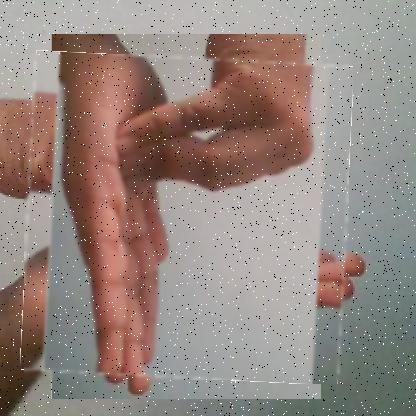Z: (24, 54, 350, 381)
